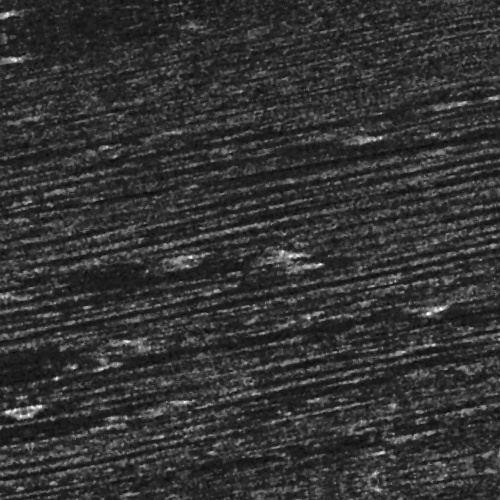object: (323, 152, 416, 161), (376, 329, 439, 340), (404, 133, 477, 138), (267, 269, 298, 274)
shadow: (92, 329, 407, 340), (126, 152, 370, 161), (370, 382, 500, 397), (206, 139, 500, 144), (280, 172, 500, 177), (201, 269, 282, 274), (360, 133, 440, 138)
